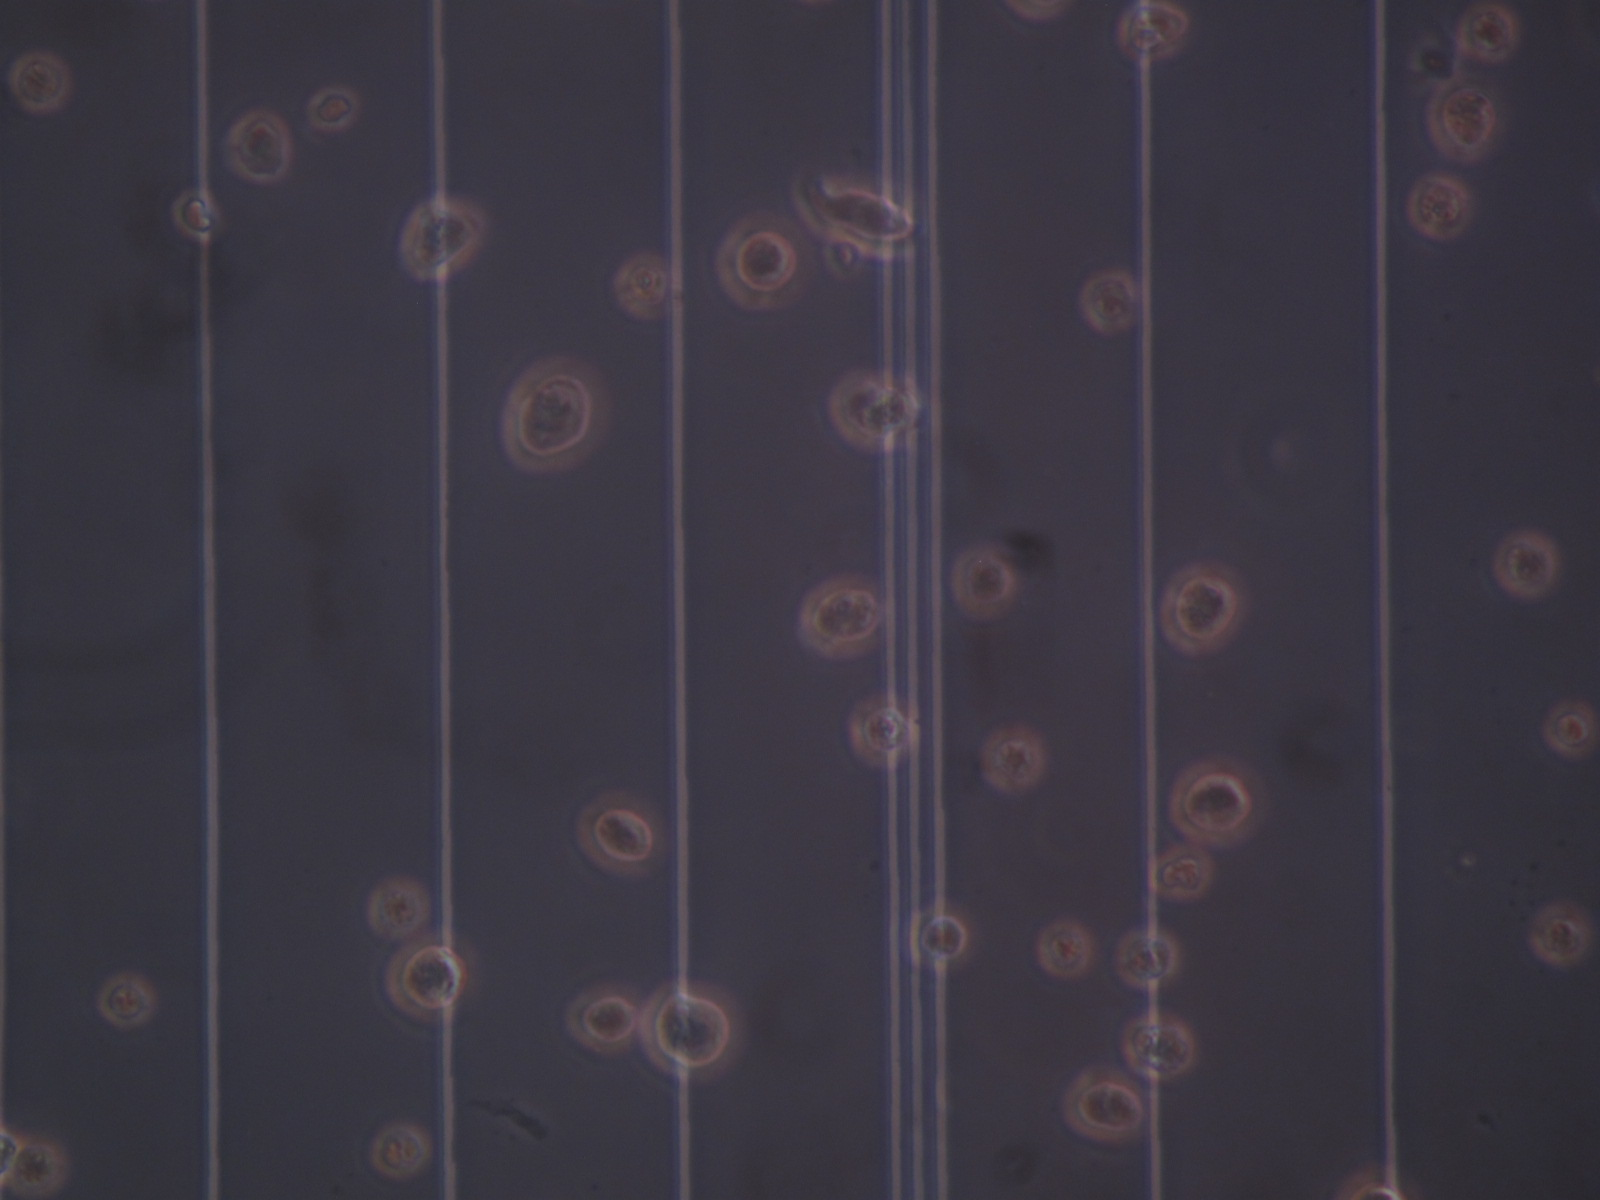hemo: (501, 355, 612, 476), (789, 170, 921, 258), (644, 981, 740, 1085), (713, 212, 808, 311), (1157, 561, 1246, 655), (1167, 760, 1259, 850), (797, 576, 894, 661), (825, 373, 922, 454), (384, 937, 469, 1024), (574, 792, 656, 876), (401, 198, 481, 282), (1425, 77, 1495, 166), (1063, 1066, 1144, 1141), (847, 693, 920, 770), (901, 903, 978, 974), (949, 547, 1020, 621), (568, 984, 639, 1056), (224, 108, 291, 182), (1121, 1013, 1196, 1079), (980, 722, 1046, 793), (1115, 3, 1191, 63), (1406, 173, 1469, 242), (1495, 529, 1556, 600), (615, 252, 671, 321), (1148, 841, 1212, 901), (9, 50, 69, 113), (367, 877, 430, 938), (1531, 901, 1587, 968), (1456, 3, 1516, 66), (1112, 932, 1178, 988), (1082, 271, 1138, 334), (1036, 919, 1094, 978), (97, 971, 154, 1029), (367, 1124, 428, 1176), (1542, 702, 1595, 760), (15, 1138, 66, 1195), (169, 192, 218, 241), (306, 84, 357, 132)
